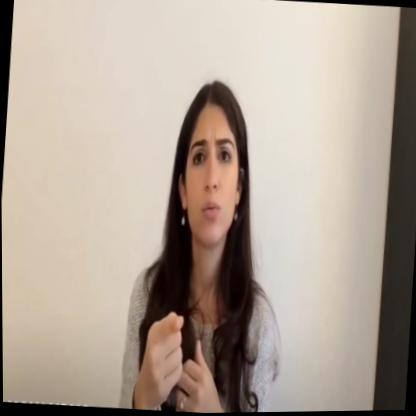HowAreYou: (135, 305, 227, 414)
